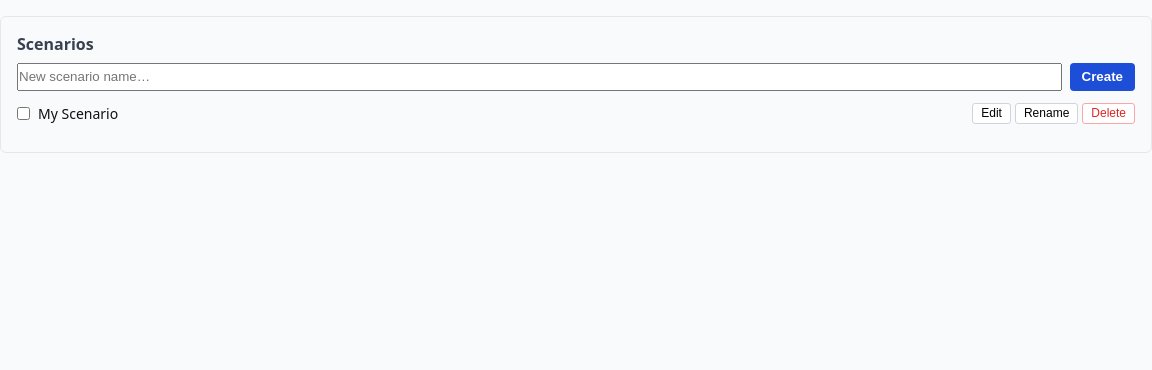
Scenario: ScenarioManager — scenario list › toggles editor off when Edit/Close is clicked again
Click the button "Edit": x=992, y=113 [972,103,1011,124]
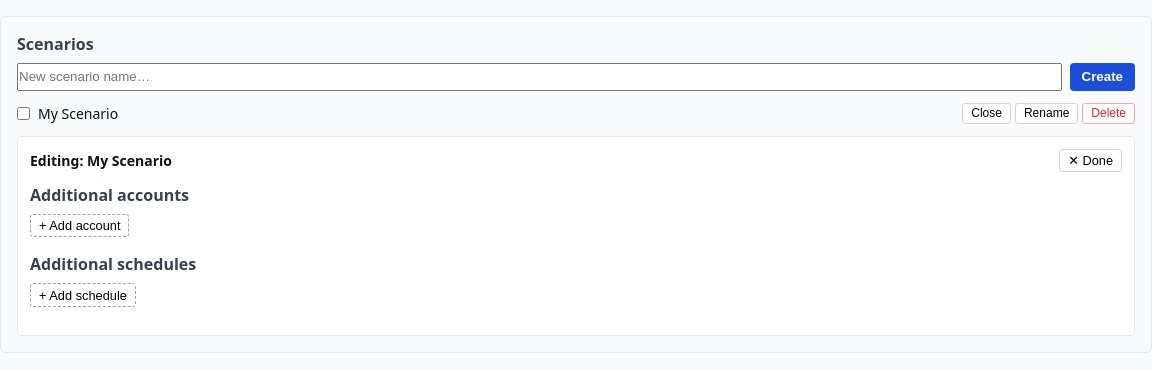
Click the button "Close": x=987, y=113 [962,103,1011,124]
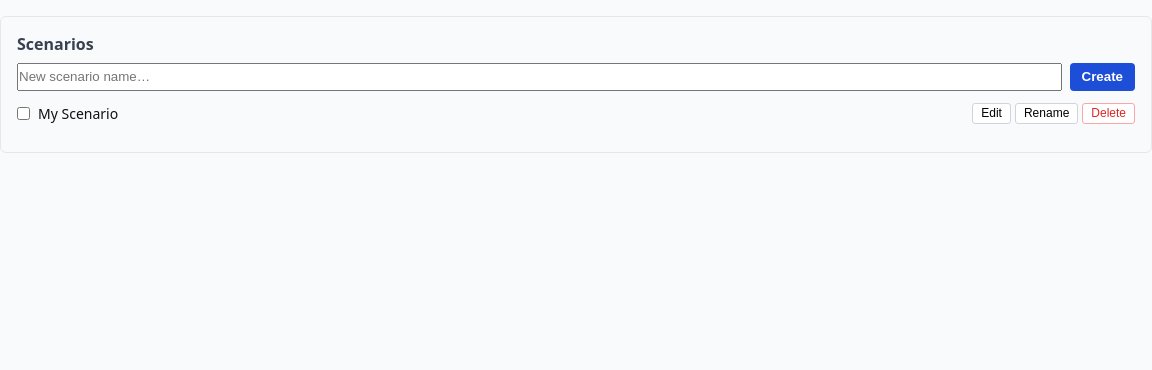
Now the text "Editing: My Scenario" is gone
